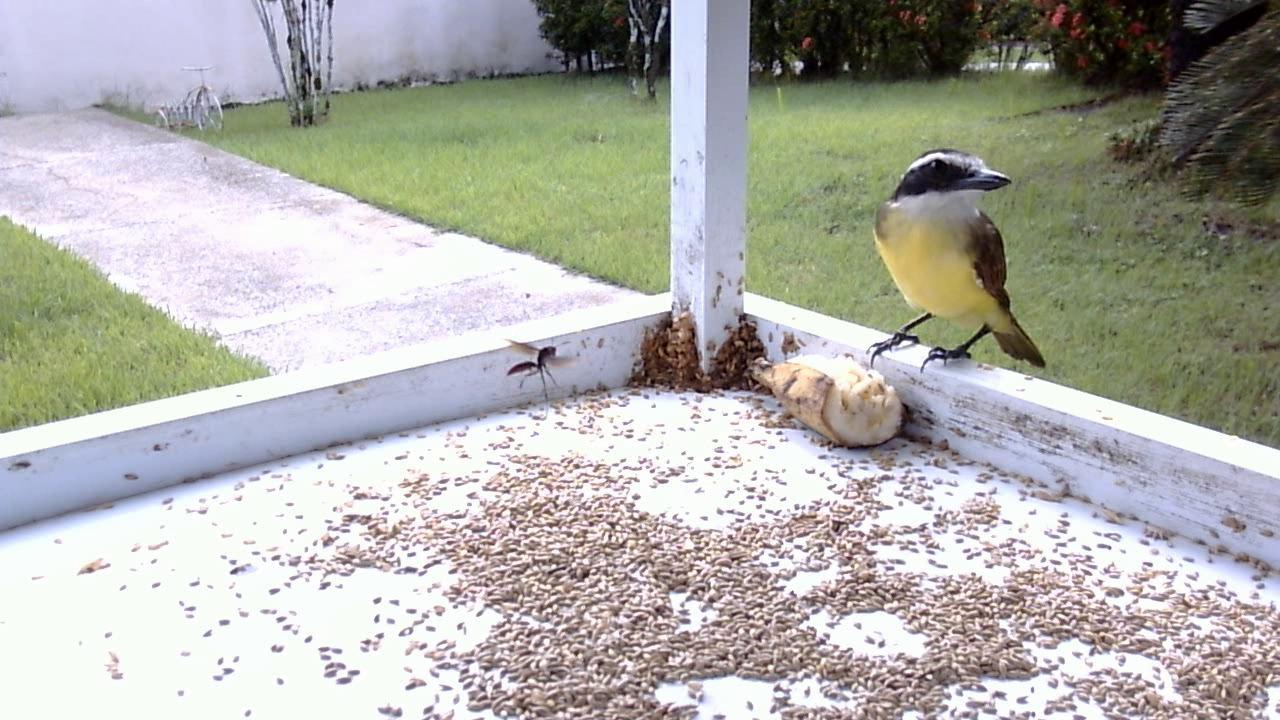bem_te_vi: (860, 144, 1053, 385)
